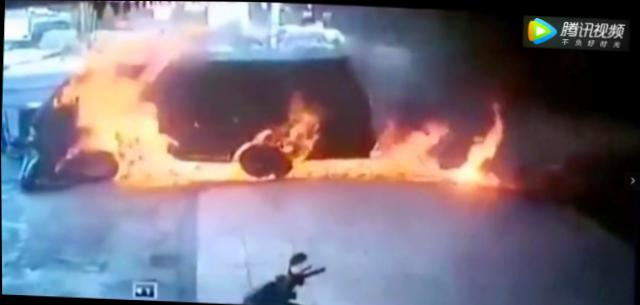fire: (75, 75, 135, 151), (370, 128, 440, 182), (117, 103, 161, 185), (158, 156, 245, 183), (283, 104, 316, 157), (292, 156, 371, 178), (462, 137, 492, 183), (439, 167, 468, 182), (487, 119, 498, 152)
